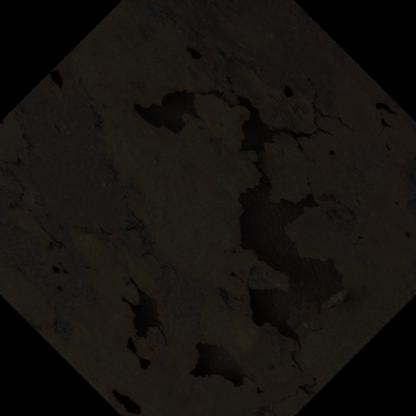burst: (224, 84, 357, 334), (114, 266, 179, 377), (122, 73, 213, 140), (194, 343, 261, 390)
